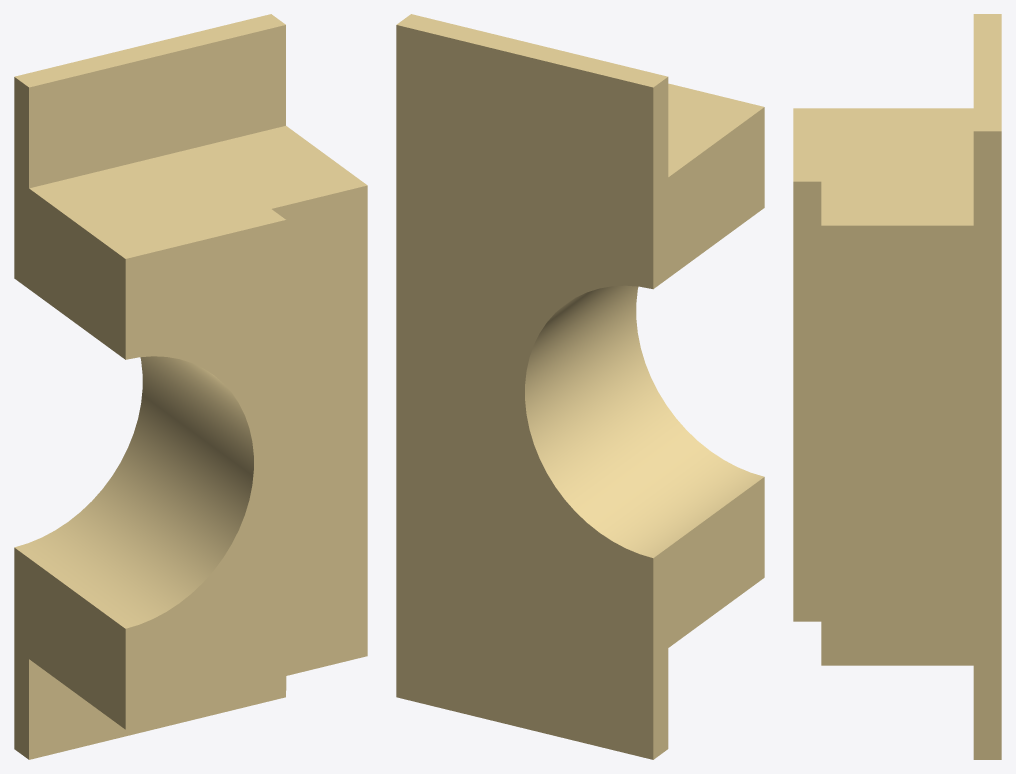
The picture shows the model from 3 angles, left to right: view 1: azimuth 30°, elevation 25°; view 2: azimuth 150°, elevation 25°; view 3: azimuth 270°, elevation 25°; orthographic projection. The views are drawn at different scales.
Visible parts, largest first — view 1: mesh92809, mesh92804, mesh92810, mesh92816, mesh92814, mesh92808, mesh92813, mesh92806, mesh92815; view 2: mesh92811, mesh92810, mesh92808, mesh92813, mesh92814, mesh92815; view 3: mesh92812, mesh92814, mesh92803, mesh92815.
Boxes of the visible parts, bbox=[...] form: mesh92809: bbox=[125, 220, 286, 729]; mesh92804: bbox=[272, 185, 367, 675]; mesh92810: bbox=[14, 356, 253, 628]; mesh92816: bbox=[29, 25, 285, 188]; mesh92814: bbox=[29, 126, 367, 258]; mesh92808: bbox=[14, 547, 125, 759]; mesh92813: bbox=[14, 77, 125, 359]; mesh92806: bbox=[29, 659, 285, 759]; mesh92815: bbox=[14, 14, 285, 87]; mesh92811: bbox=[396, 25, 653, 759]; mesh92810: bbox=[525, 285, 764, 558]; mesh92808: bbox=[653, 477, 764, 759]; mesh92813: bbox=[653, 77, 764, 288]; mesh92814: bbox=[668, 83, 763, 176]; mesh92815: bbox=[396, 14, 667, 87]; mesh92812: bbox=[821, 131, 1001, 759]; mesh92814: bbox=[793, 108, 973, 225]; mesh92803: bbox=[793, 181, 821, 621]; mesh92815: bbox=[973, 14, 1001, 131].
Size of the model in its own units: 0.0004 by 0.001 by 0.0003.
